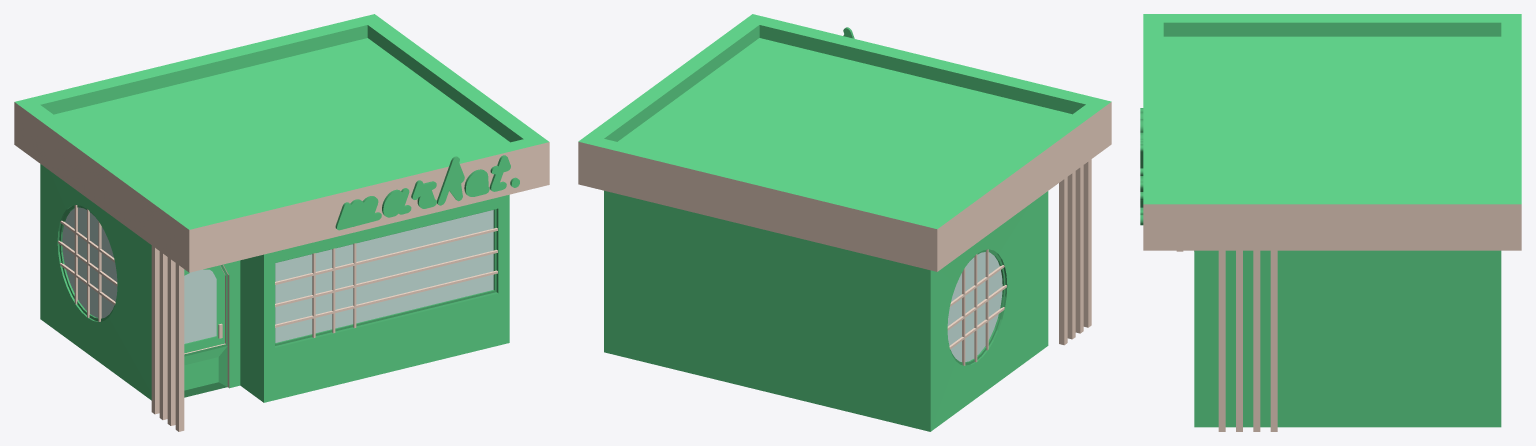
File: Market_1.fbx
3 views of the same model, side by side, from view 1: azimuth 30°, elevation 25°; view 2: azimuth 150°, elevation 25°; view 3: azimuth 270°, elevation 25° (orthographic). The views are drawn at different scales.
Visible parts, largest first — view 1: market; view 2: market; view 3: market.
Part boxes in pixels (box(x1,y1,x2,y2)): market: box(14, 14, 549, 431); market: box(578, 14, 1111, 431); market: box(1140, 14, 1521, 431).
Size of the model in its own units: 678 by 401 by 575.
